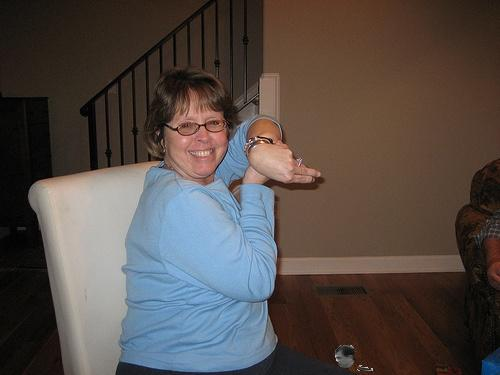tampered: (336, 346, 373, 371)
